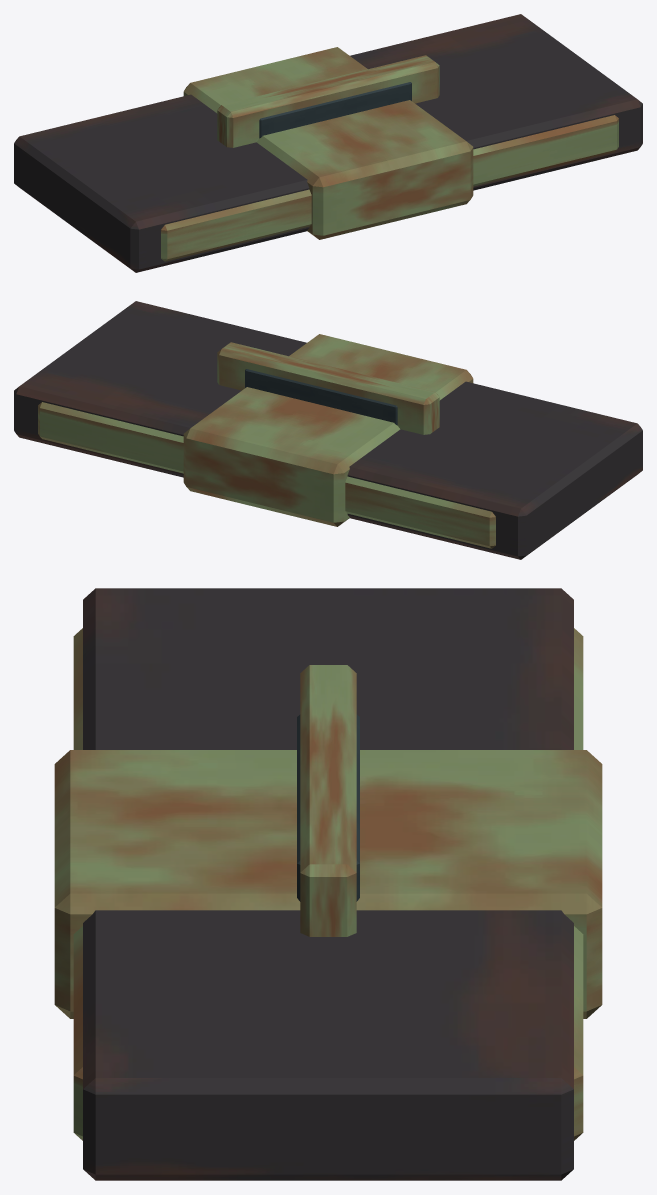
File: car-chunks-pickup.glb
3 views of the same model, one above another, from view 1: azimuth 30°, elevation 25°; view 2: azimuth 150°, elevation 25°; view 3: azimuth 270°, elevation 25° (orthographic). The views are drawn at different scales.
Parts seen in each view (by area): view 1: chassis, hood, roof, door; view 2: chassis, hood, roof, door; view 3: chassis, hood, door, roof.
Boxes of the visible parts, bbox=[...] form: chassis: bbox=[14, 14, 642, 272]; hood: bbox=[183, 47, 473, 239]; roof: bbox=[161, 115, 618, 261]; door: bbox=[217, 55, 439, 147]; chassis: bbox=[14, 301, 642, 559]; hood: bbox=[183, 334, 473, 526]; roof: bbox=[38, 402, 495, 548]; door: bbox=[217, 342, 439, 434]; chassis: bbox=[83, 588, 573, 1180]; hood: bbox=[54, 750, 602, 1018]; door: bbox=[297, 665, 359, 936]; roof: bbox=[73, 628, 583, 1140].
Bounding box in the file's own units: 3.76 × 0.8401 × 1.74.
1 material, 1 textured.
